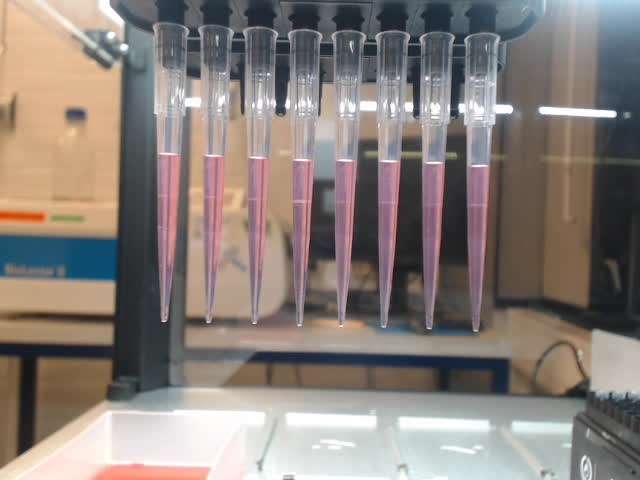Liquid: (152, 147, 187, 325), (197, 151, 230, 327), (463, 161, 496, 336), (418, 157, 450, 334), (375, 157, 406, 333), (242, 151, 272, 329), (331, 156, 360, 331), (287, 156, 316, 330)
Tip: (150, 20, 192, 327), (462, 31, 503, 336), (239, 25, 280, 328), (195, 24, 235, 326), (417, 30, 456, 332), (373, 29, 411, 331), (330, 28, 368, 330), (286, 27, 324, 329)
